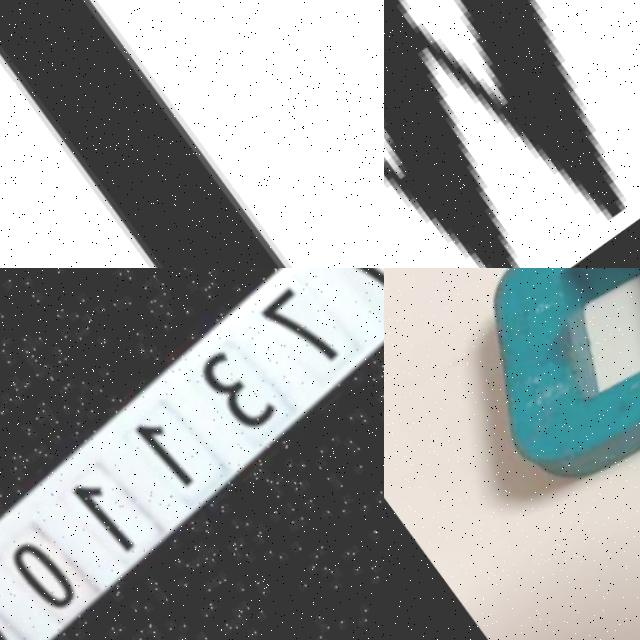0: (0, 505, 106, 632), (0, 565, 43, 640)
1: (48, 437, 174, 572), (114, 379, 230, 503)
3: (174, 312, 302, 450)
7: (240, 268, 366, 386), (303, 268, 384, 330)
D: (419, 268, 640, 533)
T: (0, 0, 384, 268)
W: (384, 0, 640, 268)
